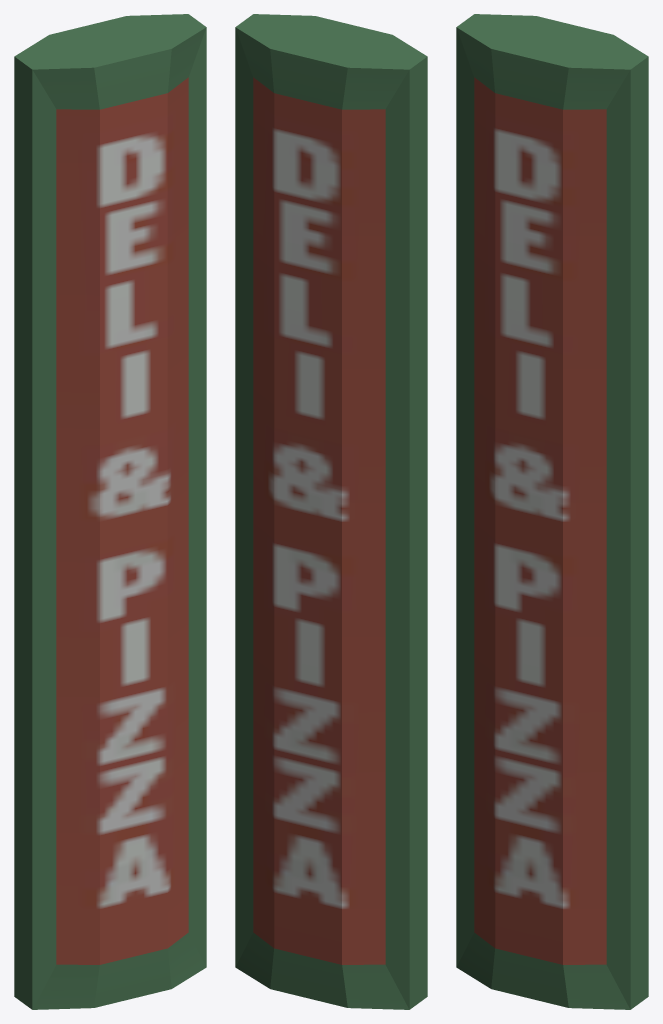
File: SM_Prop_Sign_DeliPizza_01.obj
3 renders of one model, left to right at view 1: azimuth 30°, elevation 25°; view 2: azimuth 150°, elevation 25°; view 3: azimuth 330°, elevation 25°, orthographic.
Visible parts, largest first — view 1: SM_Prop_Sign_DeliPizza_01_0; view 2: SM_Prop_Sign_DeliPizza_01_0; view 3: SM_Prop_Sign_DeliPizza_01_0.
Boxes of the visible parts, x1,y1,x2,y2 form: SM_Prop_Sign_DeliPizza_01_0: (14, 14, 206, 1009); SM_Prop_Sign_DeliPizza_01_0: (235, 14, 427, 1009); SM_Prop_Sign_DeliPizza_01_0: (456, 14, 648, 1009).
Size of the model in its own units: 0.3006 by 1.55 by 0.1395.
Materials: 1 (1 with a texture image).
